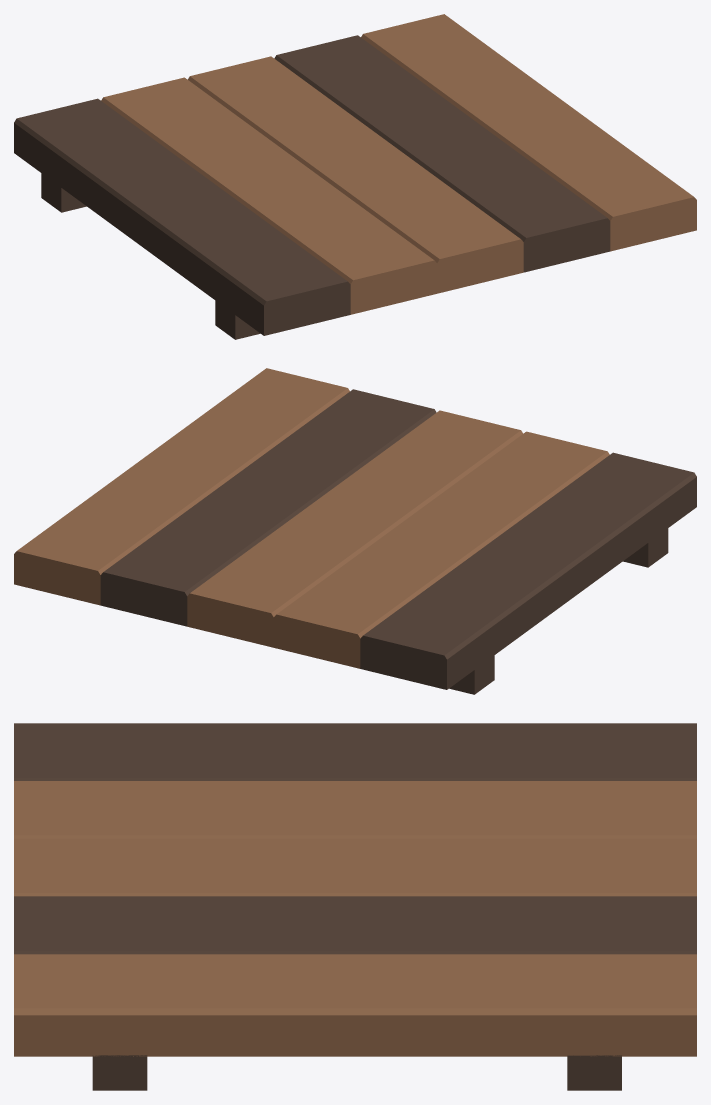
The model's file is boarded_loft_floor.glb.
3 renders of one model, top to bottom at view 1: azimuth 30°, elevation 25°; view 2: azimuth 150°, elevation 25°; view 3: azimuth 270°, elevation 25°, orthographic. The views are drawn at different scales.
Visible parts, largest first — view 1: Boarded loft floor; view 2: Boarded loft floor; view 3: Boarded loft floor.
Part boxes in pixels (<box>): Boarded loft floor: <box>14,14,696,339</box>; Boarded loft floor: <box>14,368,696,694</box>; Boarded loft floor: <box>14,723,696,1090</box>.
Bounding box in the file's own units: 1 × 0.13 × 1.
